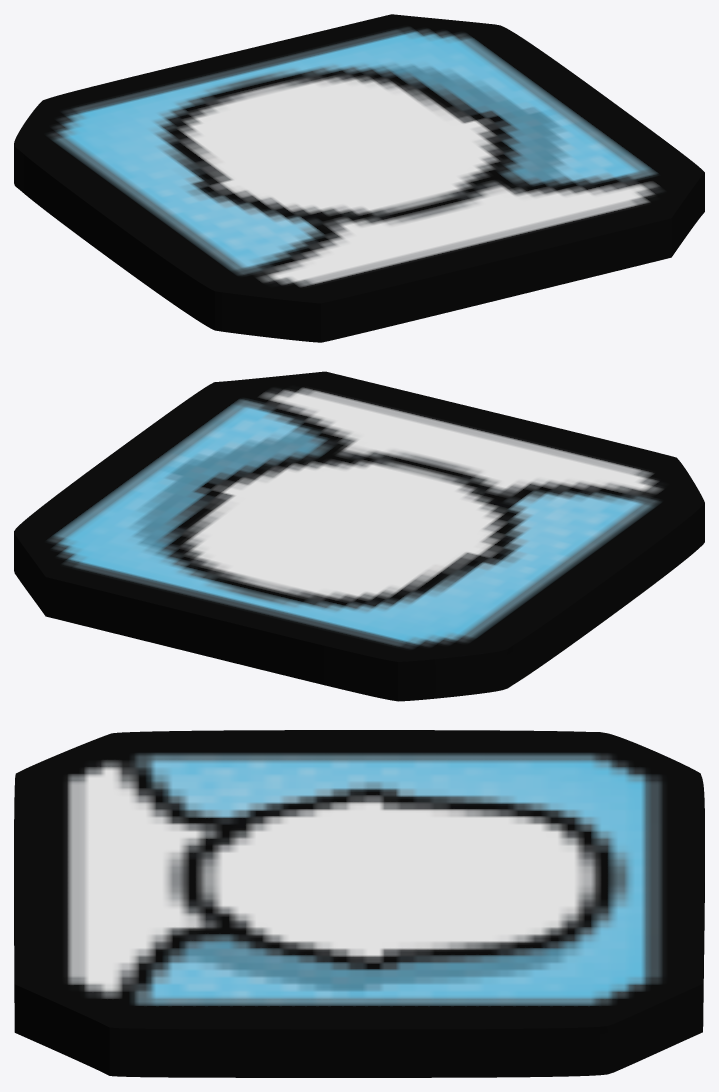
Rendered from CivillianToken.fbx.
3 views of the same model, one above another, from view 1: azimuth 30°, elevation 25°; view 2: azimuth 150°, elevation 25°; view 3: azimuth 270°, elevation 25° (orthographic). The views are drawn at different scales.
Parts seen in each view (by area): view 1: CivillianToken; view 2: CivillianToken; view 3: CivillianToken.
Boxes of the visible parts, <box> form: CivillianToken: <box>14,14,704,342</box>; CivillianToken: <box>14,371,704,701</box>; CivillianToken: <box>14,730,704,1077</box>.
Size of the model in its own units: 5.31 by 0.4 by 5.17.
3 materials, 2 textured.
